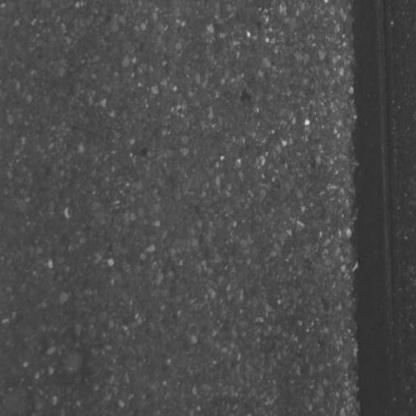Cracks: (378, 0, 402, 401)
